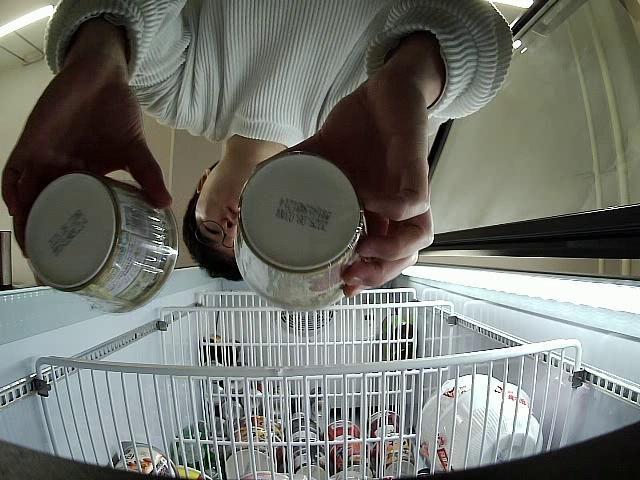04_chapagetti_S: (24, 172, 178, 312), (235, 154, 368, 308)
